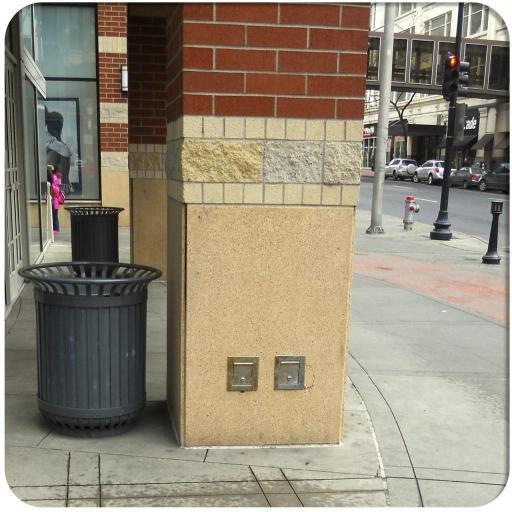trash-can: (18, 244, 172, 435)
